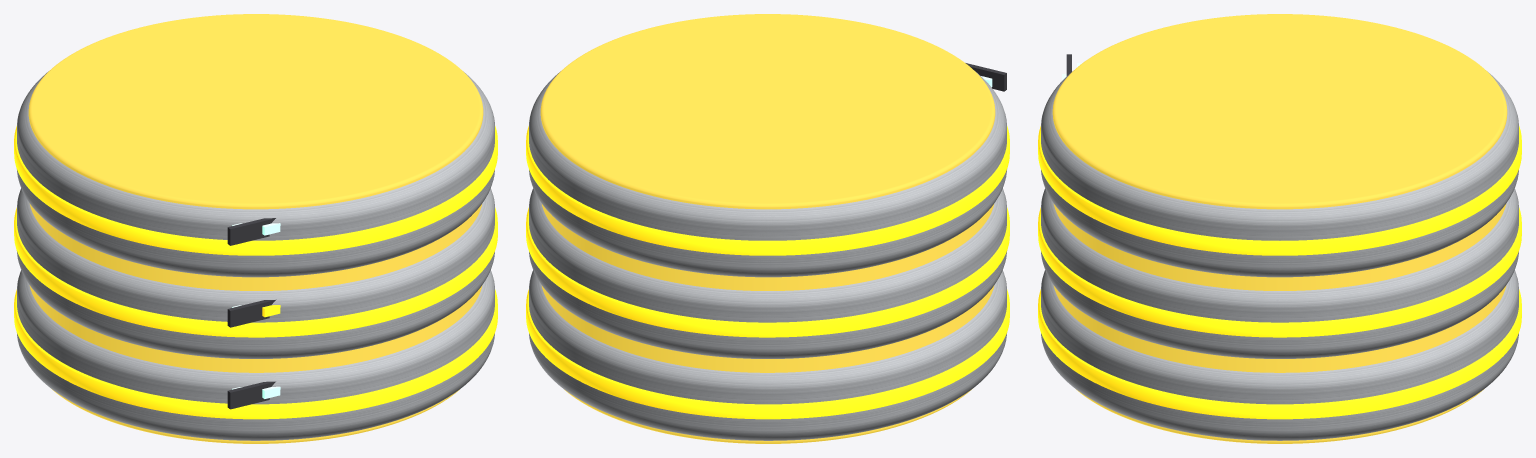
Rendered from database.glb.
3 renders of one model, left to right at view 1: azimuth 30°, elevation 25°; view 2: azimuth 150°, elevation 25°; view 3: azimuth 270°, elevation 25°, orthographic.
Parts seen in each view (by area): view 1: database; view 2: database; view 3: database.
Part boxes in pixels (x1,y1,x2,y2): database: (14, 14, 497, 443); database: (526, 14, 1009, 443); database: (1038, 14, 1521, 443).
Size of the model in its own units: 2.63 by 1.44 by 2.63.
Materials: 5 (1 with a texture image).
